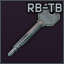RB-TB key: (0, 0, 64, 64)
